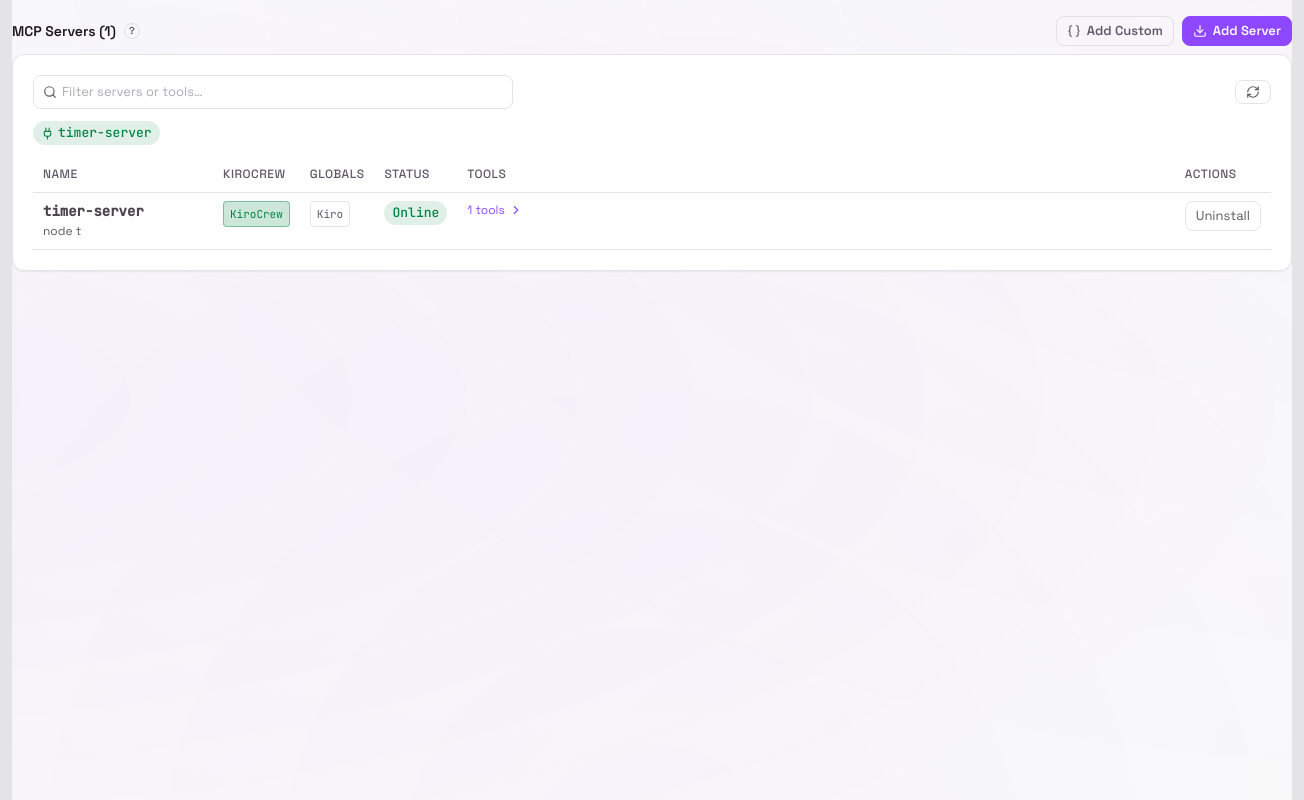
McpTab Integration Tests › cancels the pending Apply-banner timer on unmount (no post-teardown state update)
Click the button "1 tools" at (495, 210), box [467, 201, 523, 220]
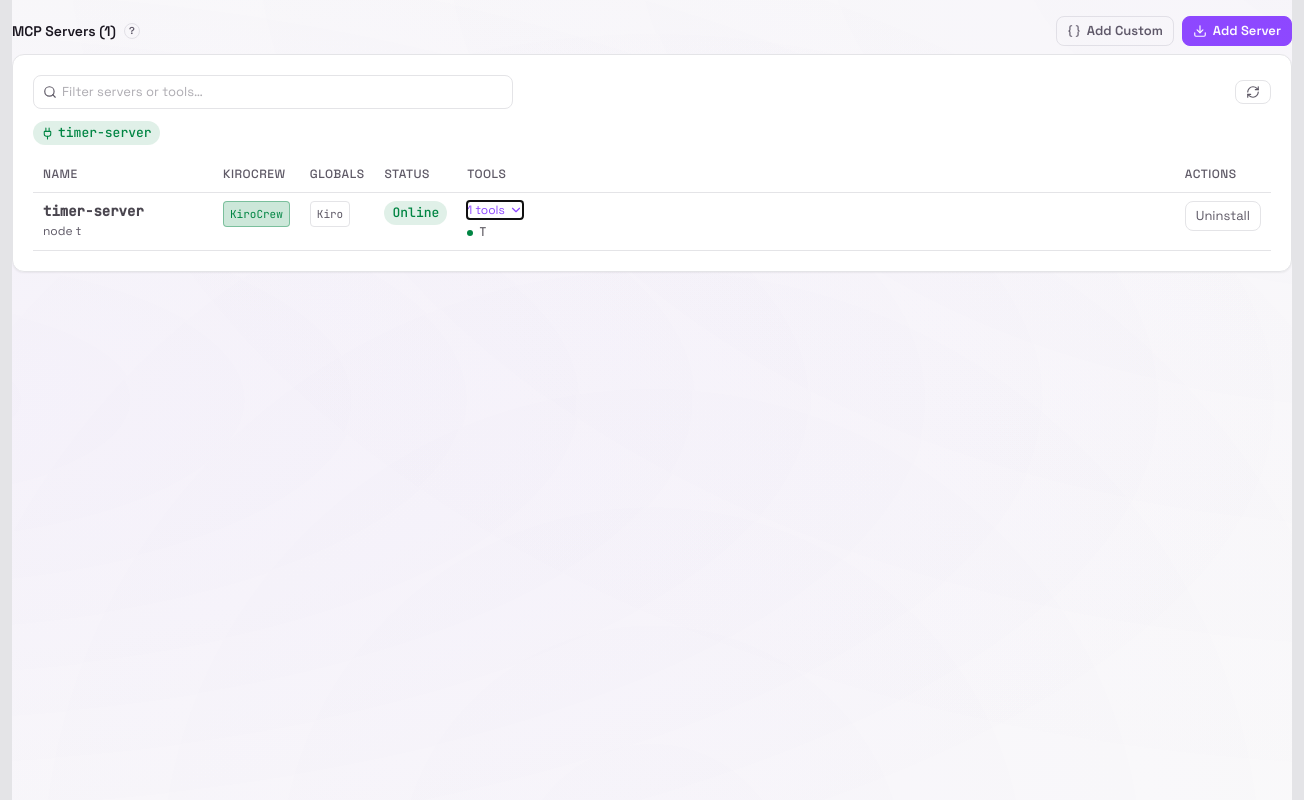
Now the button "T" is shown
Click the button "T" at (477, 233), box [467, 224, 486, 242]
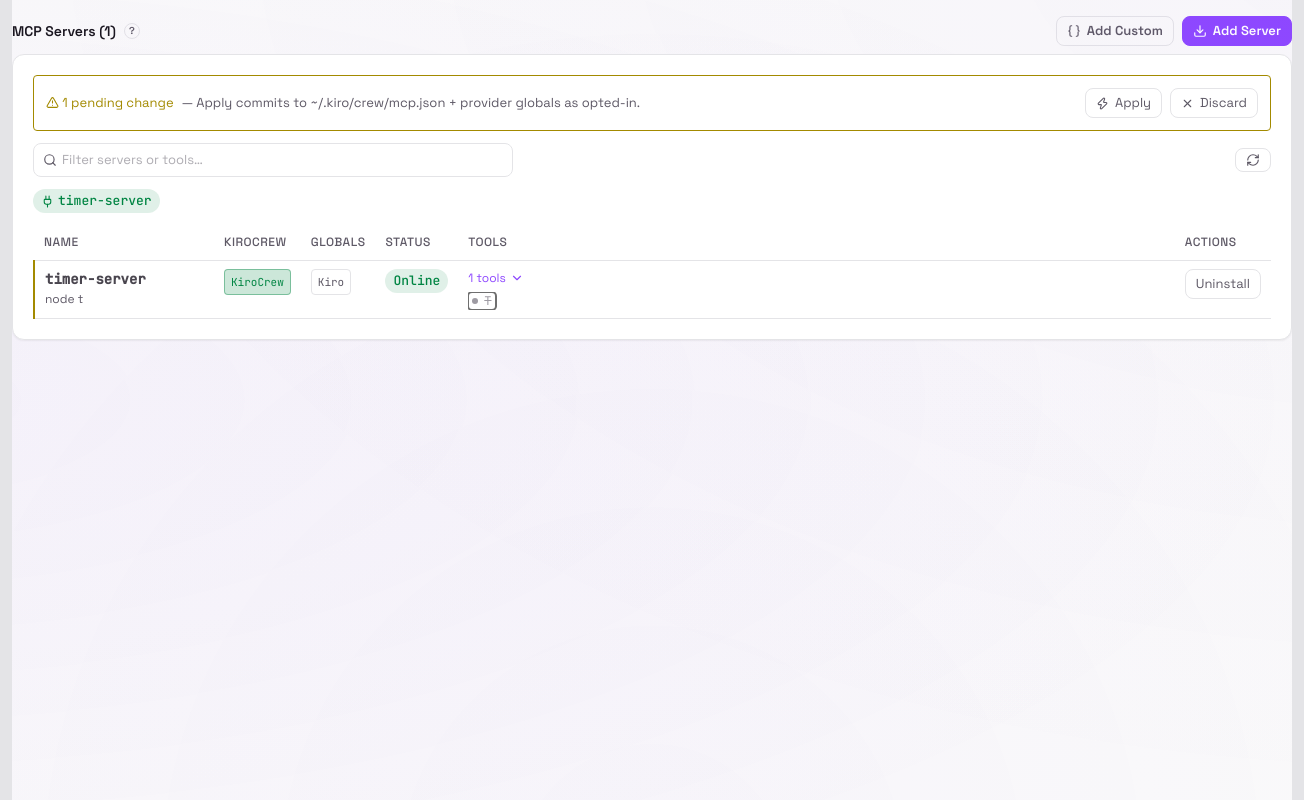
Now the text "pending change" is shown, box [62, 94, 174, 111]
Click the button "Apply" at (1124, 103), box [1085, 88, 1162, 118]
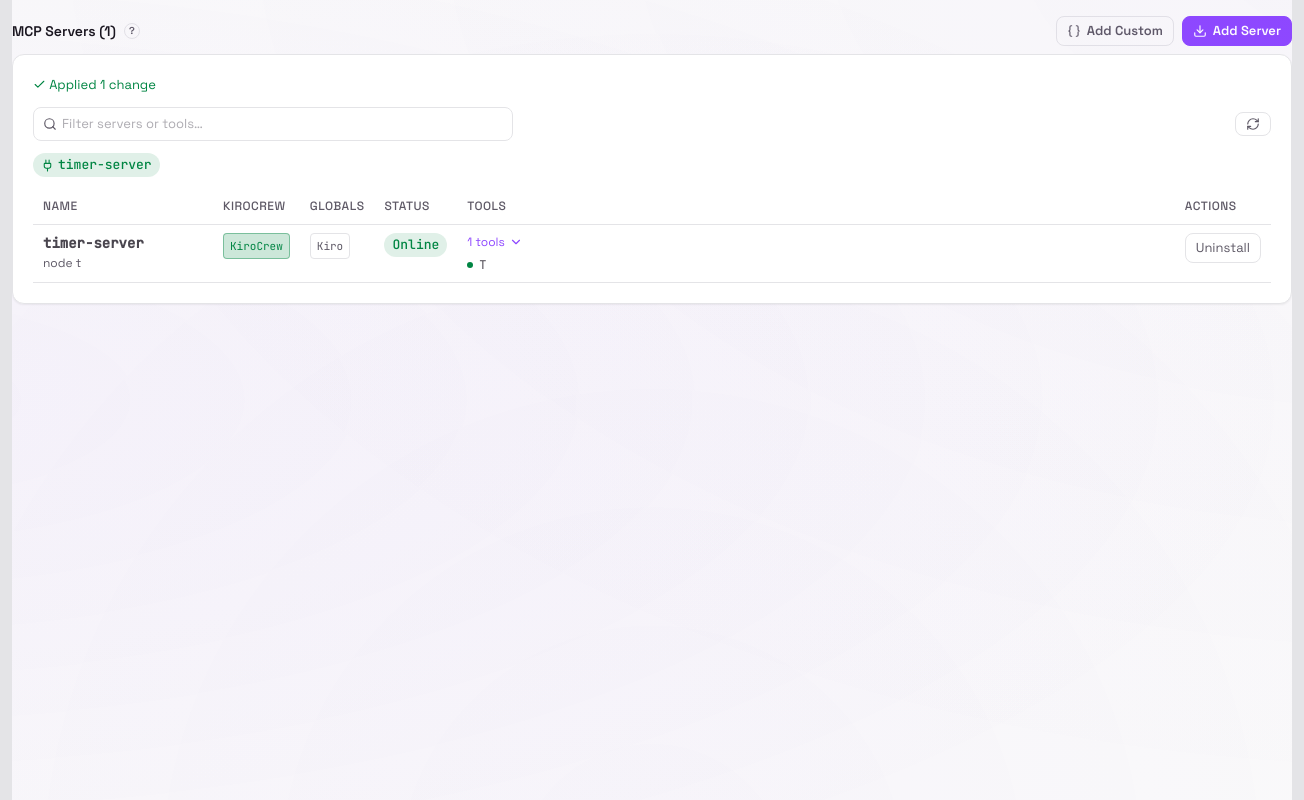
Now the text "Applied 1 change" is shown, box [33, 76, 156, 93]
